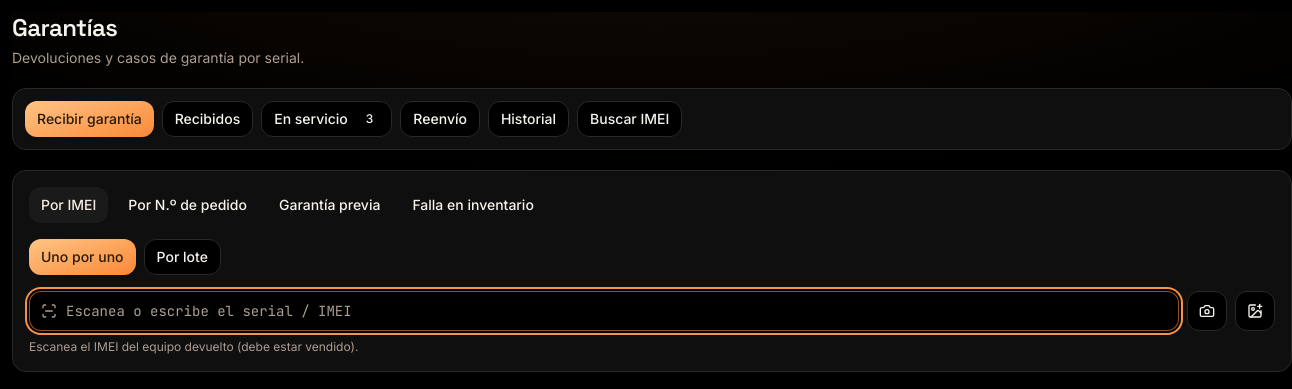
Test: Garantías · En servicio, agrupado por lote (igual que Recibidos) › dos pedidos distintos quedan en dos lotes separados, cerrados por defecto
What coordinates should you click on to do the following:
click the button "En servicio 3"
I would click on:
 (327, 119)
Its box is [261, 101, 392, 137].
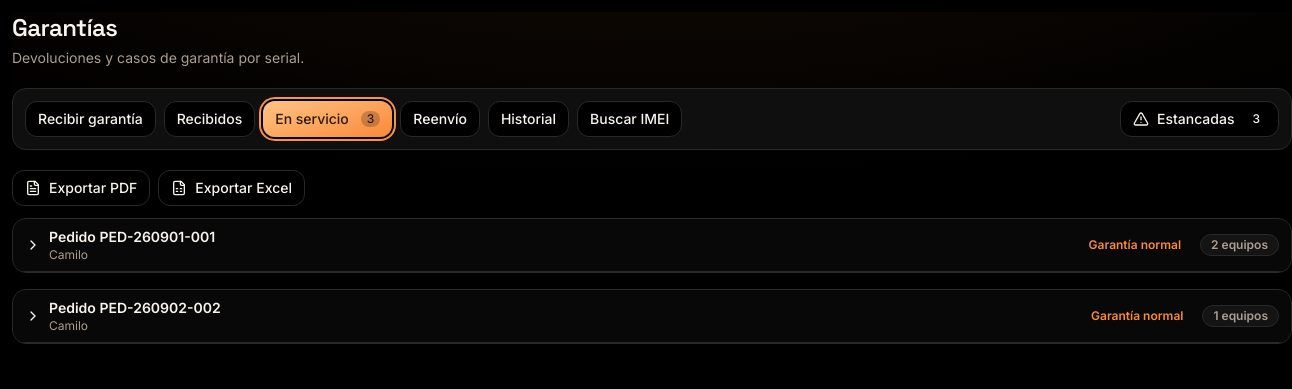
Result: the text "PED-260901-001" is shown at [49, 228, 215, 245]
Result: the text "PED-260902-002" is shown at [49, 299, 221, 316]
